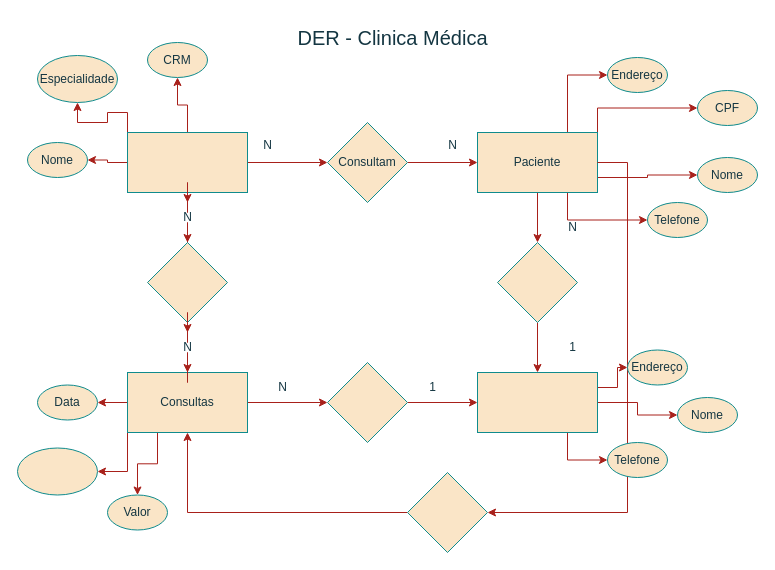
This 775x570 diagram has some shape labels left out. Here are the shapes that lost their labels. From the top down, the centre of each, then its label:
At point (187, 162): "Medico".
At point (187, 282): "Realiza".
At point (537, 282): "Vão".
At point (367, 402): "Ocorre".
At point (537, 402): "Clinica".
At point (57, 471): "Horario".
At point (447, 512): "Passam".
